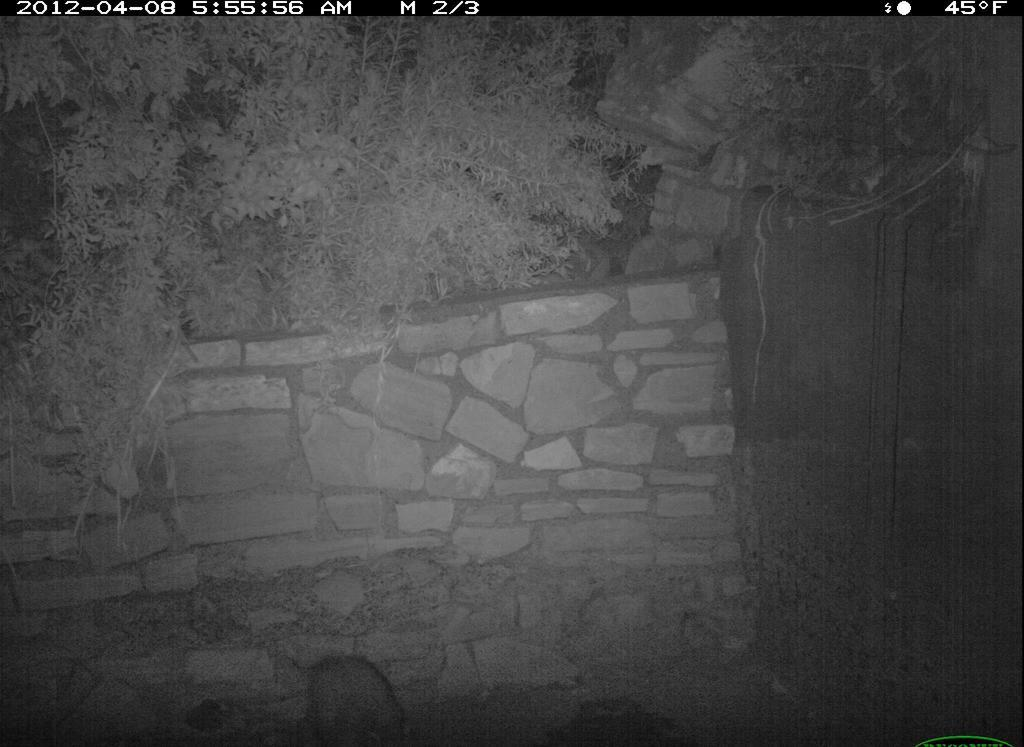raccoon: (289, 647, 433, 747)
